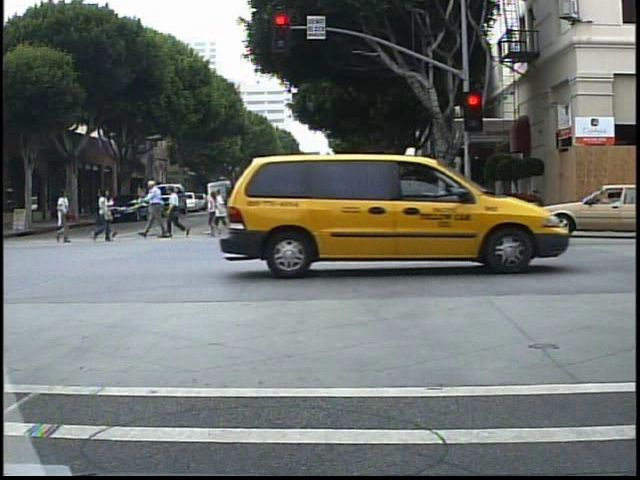person: (142, 174, 169, 243), (301, 168, 327, 238), (160, 185, 194, 237), (88, 188, 118, 246), (50, 187, 80, 243), (231, 180, 259, 238), (94, 186, 115, 241)
